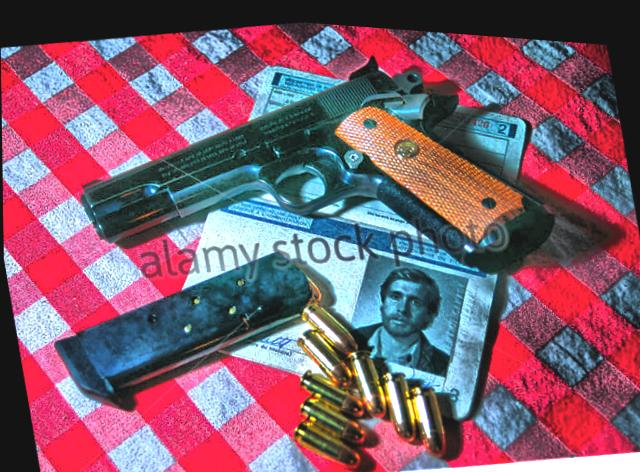pistol: (56, 3, 559, 326)
